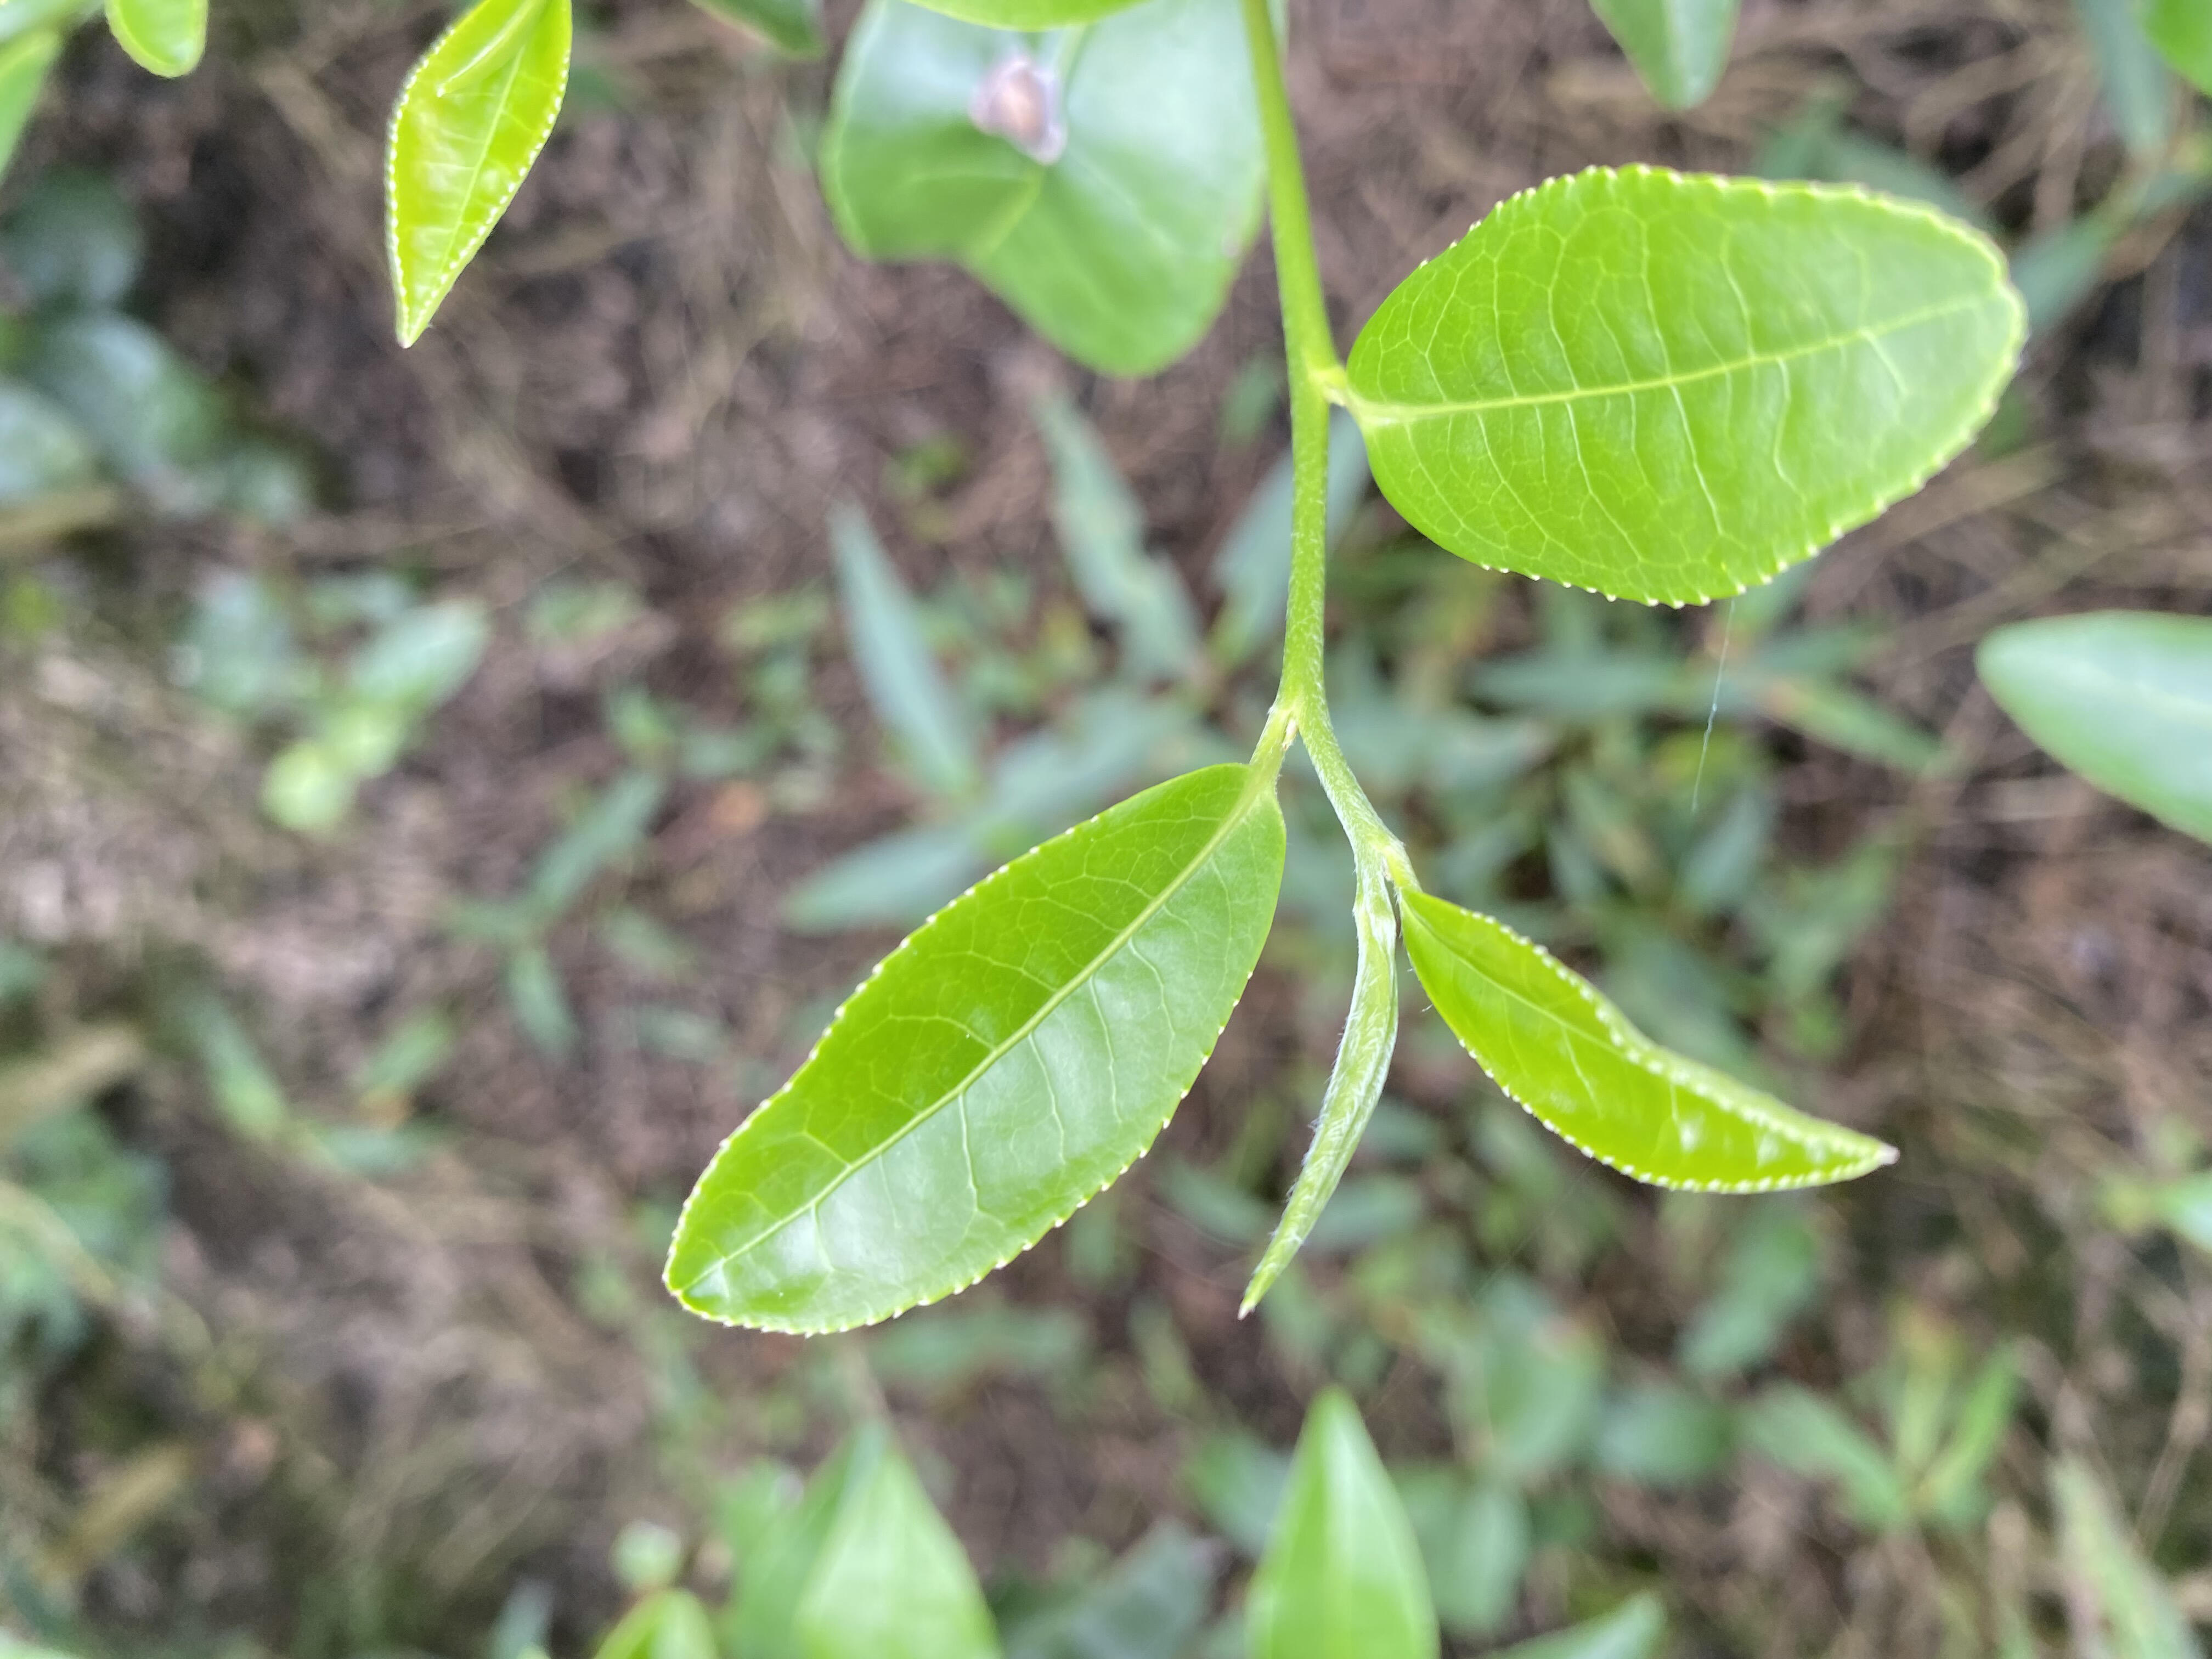healthy: (658, 760, 1292, 1340), (1346, 157, 2027, 613), (1399, 884, 1898, 1195)
tanju_high: (822, 3, 1284, 383)
